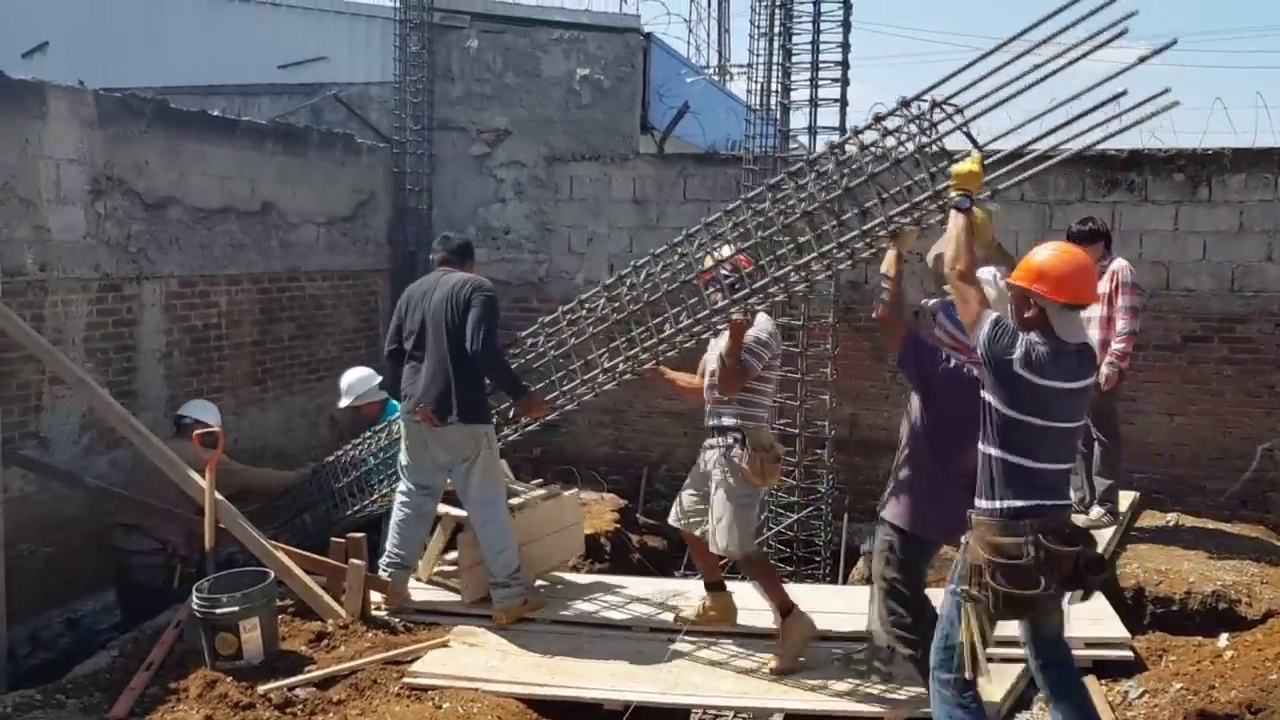helmet: (1004, 240, 1099, 307), (699, 245, 758, 284), (337, 367, 384, 410), (173, 399, 223, 430)
helmet-off: (1064, 215, 1113, 264), (427, 234, 475, 275)
helmet-on: (1003, 240, 1099, 338), (698, 243, 758, 312), (337, 367, 391, 424), (172, 401, 222, 444)
person: (928, 147, 1101, 720), (638, 243, 817, 645), (375, 234, 539, 623), (868, 241, 983, 683), (112, 394, 316, 627), (1065, 210, 1143, 530), (336, 367, 403, 431)
